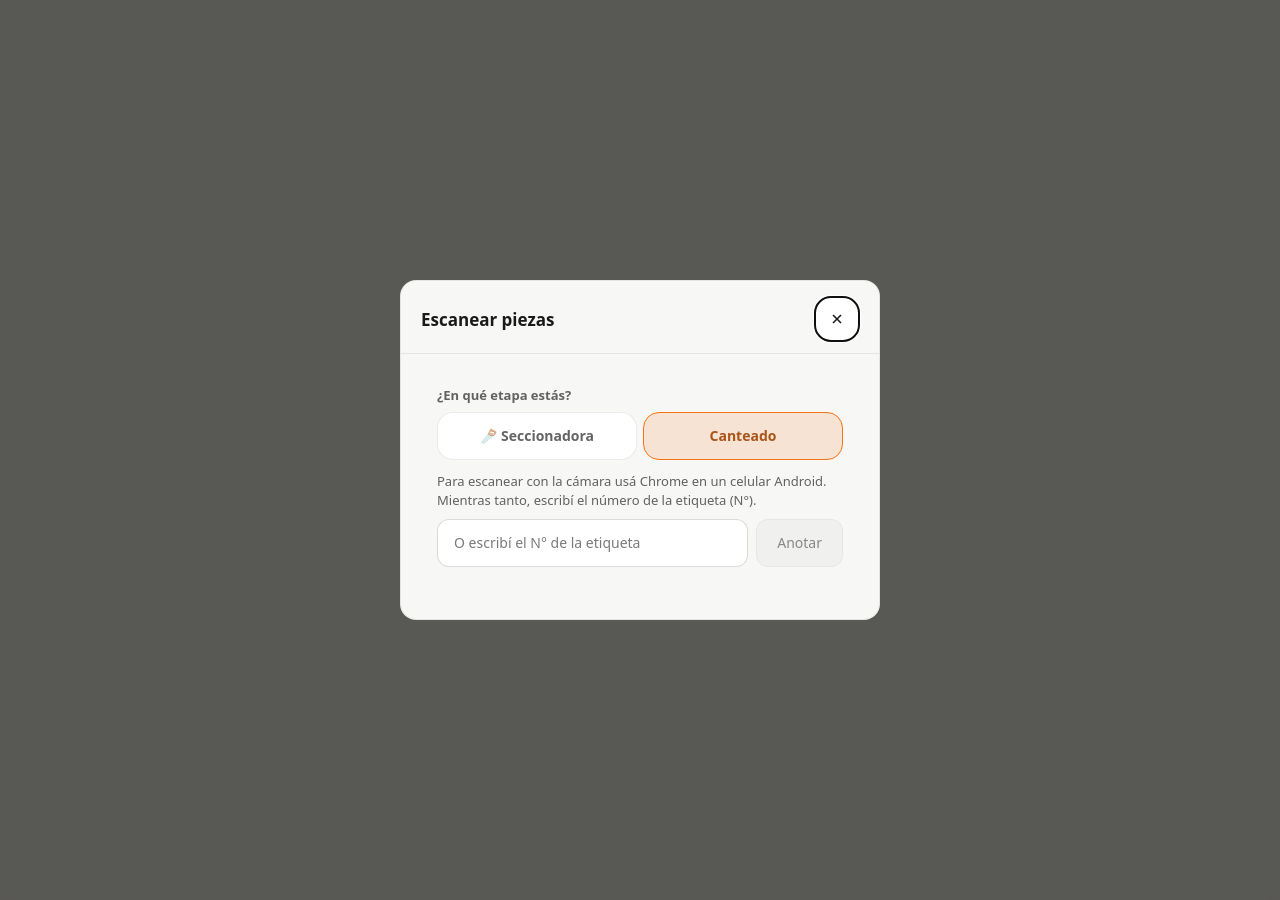
it: operario — ve los botones con los nombres de su empresa
Expected: the button "🪚 Seccionadora" is shown, [437,412,637,460]
Type "7" into the field named "Número de la pieza" at x=593, y=543, box [437,519,748,567]
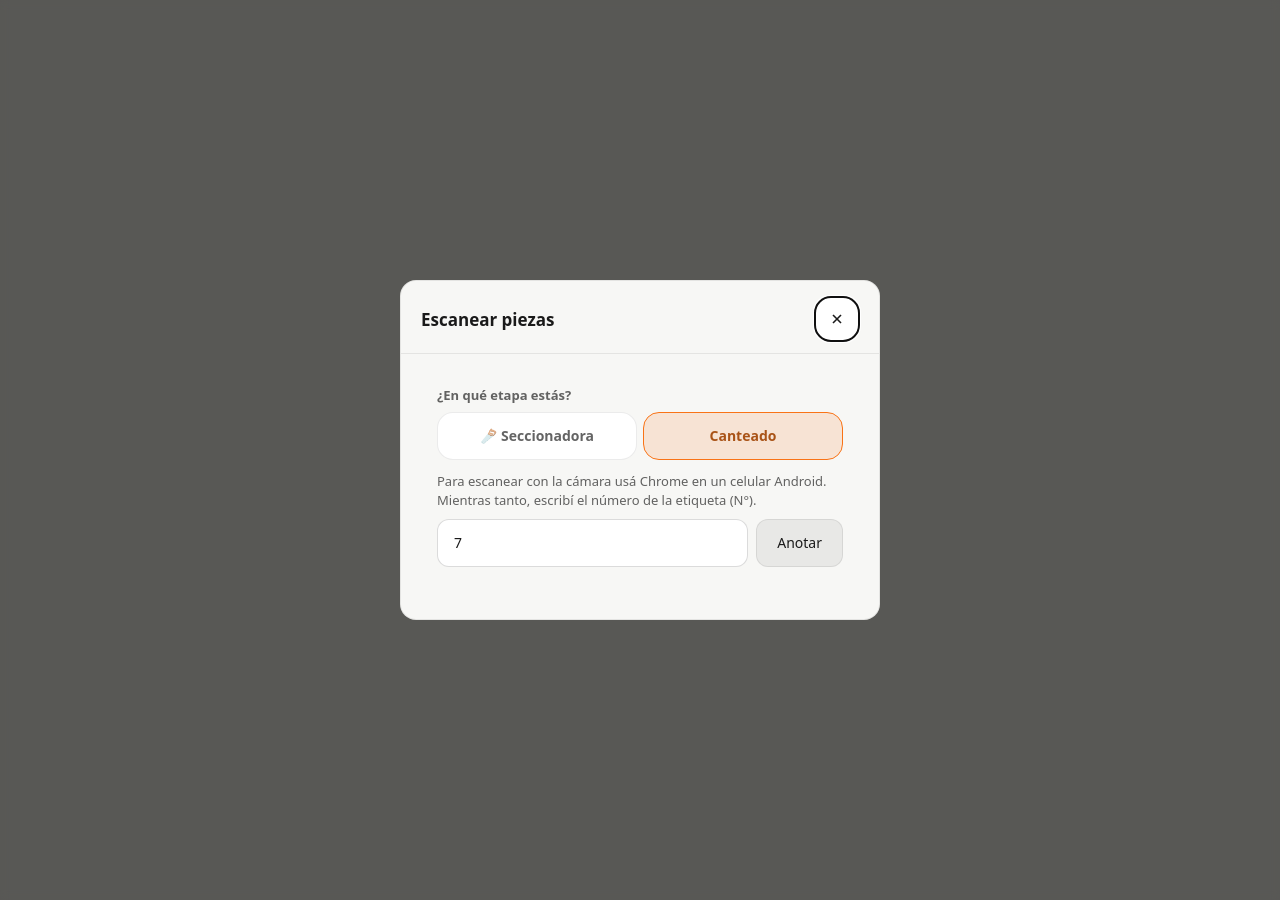
Click the button "Anotar" at x=800, y=543, box [756,519,843,567]
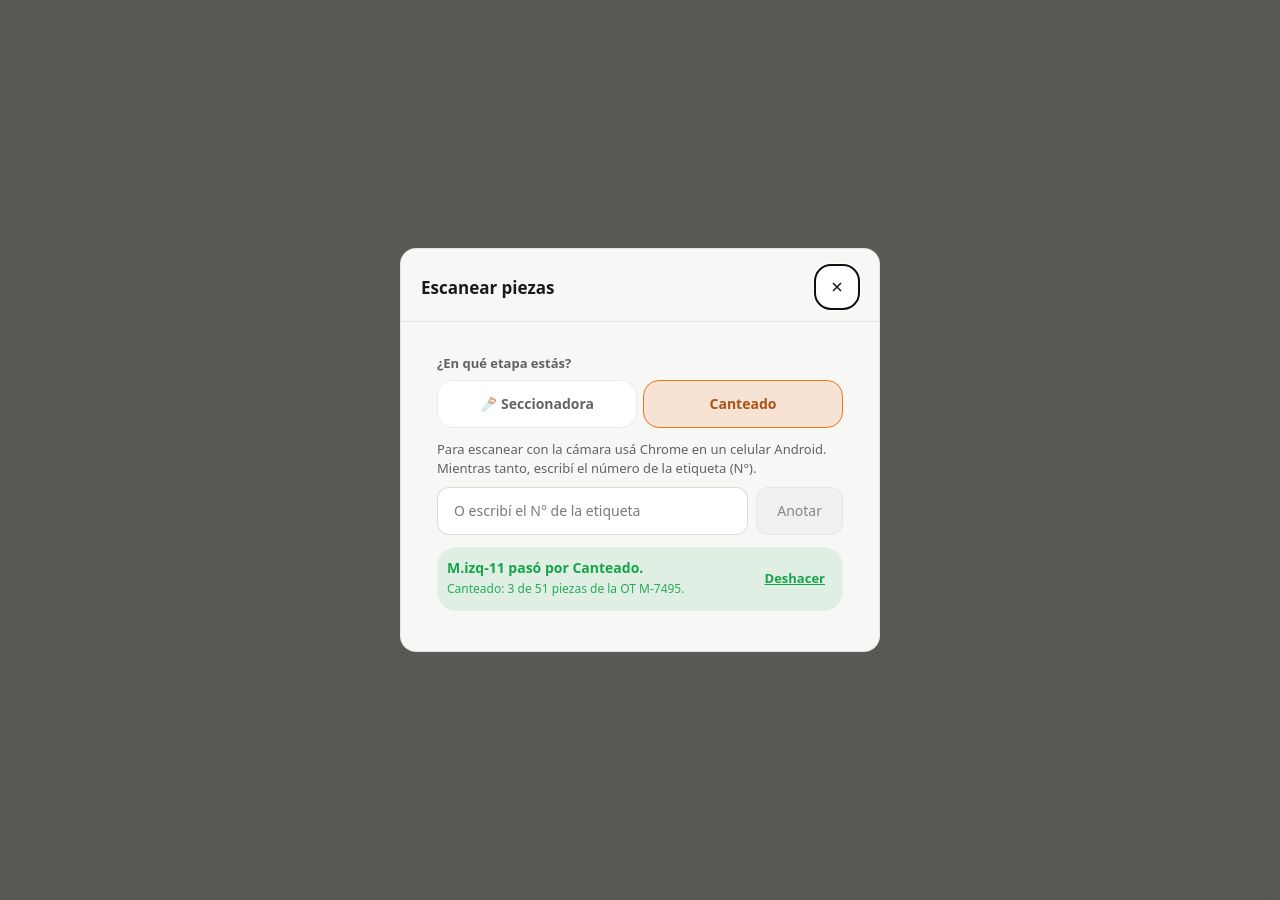
Now the text "M.izq-11 pasó por Canteado." is shown, box [447,558,643,577]
